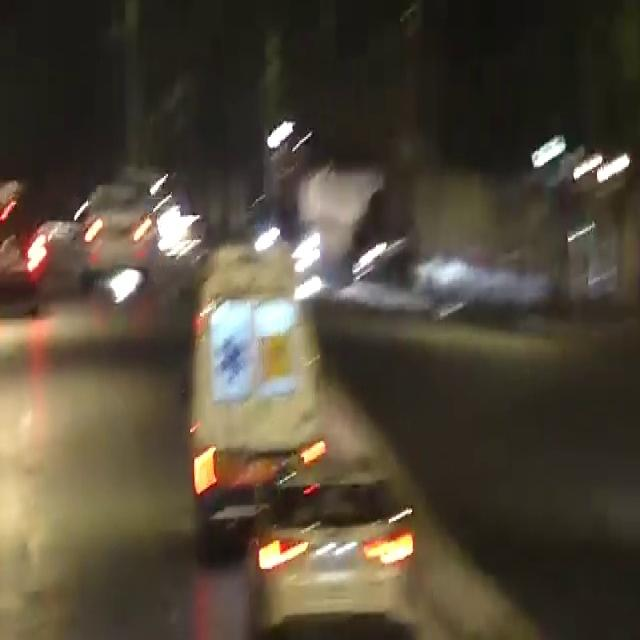ambulance: (150, 228, 336, 489)
